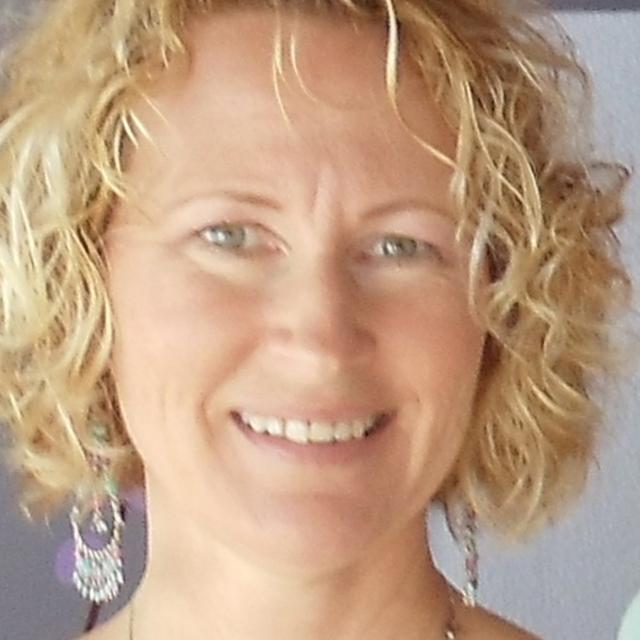Normal: (113, 14, 493, 579)
